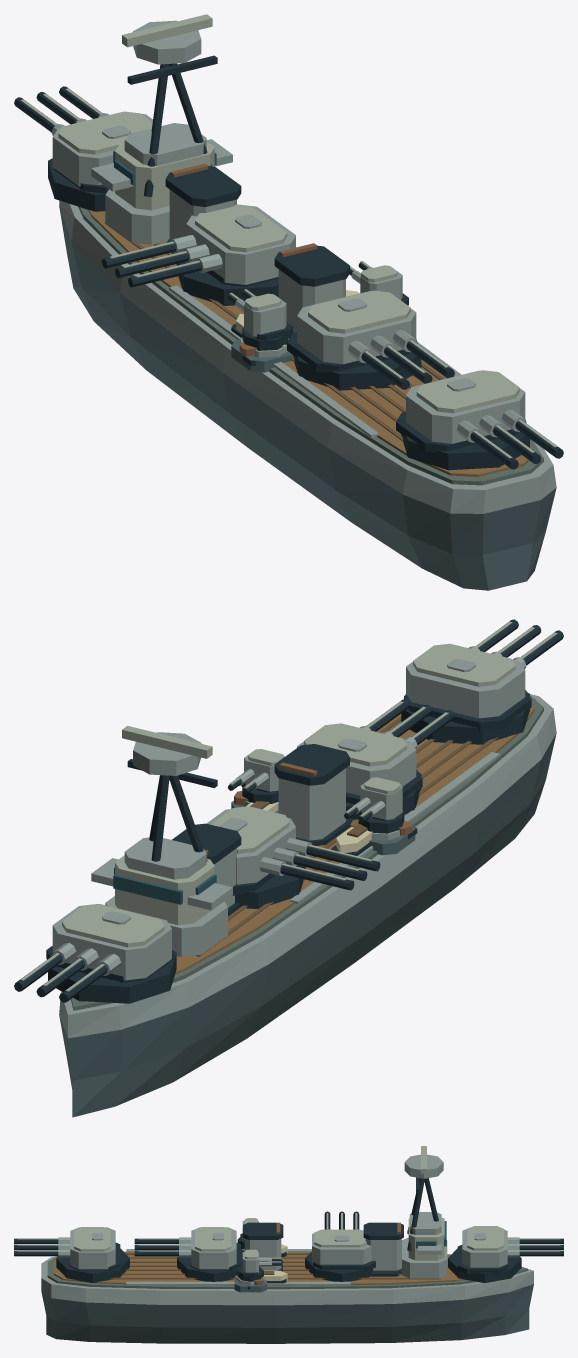
File: historic-marat.glb
3 views of the same model, one above another, from view 1: azimuth 30°, elevation 25°; view 2: azimuth 150°, elevation 25°; view 3: azimuth 270°, elevation 25° (orthographic). The views are drawn at different scales.
Parts seen in each view (by area): view 1: historic-marat-historic-marat-geometry, historic-marat-part_bridge.046-geometry, historic-marat-turret_main_3.018-geometry, historic-marat-turret_main_2.031-geometry, historic-marat-turret_main_1.035-geometry, historic-marat-turret_main_0.036-geometry, historic-marat-historic_funnel_1.023-geometry, historic-marat-historic_funnel_0.047-geometry, historic-marat-turret_aa_aa-port.048-geometry, historic-marat-turret_aa_aa-starboard.046-geometry, historic-marat-part_aa-port.048-geometry; view 2: historic-marat-historic-marat-geometry, historic-marat-part_bridge.046-geometry, historic-marat-turret_main_3.018-geometry, historic-marat-turret_main_0.036-geometry, historic-marat-turret_main_1.035-geometry, historic-marat-turret_main_2.031-geometry, historic-marat-historic_funnel_1.023-geometry, historic-marat-turret_aa_aa-port.048-geometry, historic-marat-historic_funnel_0.047-geometry, historic-marat-turret_aa_aa-starboard.046-geometry, historic-marat-part_aa-port.048-geometry; view 3: historic-marat-historic-marat-geometry, historic-marat-turret_main_0.036-geometry, historic-marat-part_bridge.046-geometry, historic-marat-turret_main_3.018-geometry, historic-marat-turret_main_2.031-geometry, historic-marat-turret_main_1.035-geometry, historic-marat-historic_funnel_0.047-geometry, historic-marat-historic_funnel_1.023-geometry, historic-marat-turret_aa_aa-starboard.046-geometry, historic-marat-part_aa-starboard.046-geometry.
Part boxes in pixels (x1,y1,x2,y2): historic-marat-historic-marat-geometry: [59, 200, 556, 590]; historic-marat-part_bridge.046-geometry: [91, 14, 232, 244]; historic-marat-turret_main_3.018-geometry: [396, 370, 563, 470]; historic-marat-turret_main_2.031-geometry: [287, 290, 454, 390]; historic-marat-turret_main_1.035-geometry: [102, 204, 295, 305]; historic-marat-turret_main_0.036-geometry: [14, 86, 152, 211]; historic-marat-historic_funnel_1.023-geometry: [274, 243, 349, 338]; historic-marat-historic_funnel_0.047-geometry: [165, 163, 241, 253]; historic-marat-turret_aa_aa-port.048-geometry: [228, 289, 292, 350]; historic-marat-turret_aa_aa-starboard.046-geometry: [349, 261, 408, 305]; historic-marat-part_aa-port.048-geometry: [231, 337, 293, 372]; historic-marat-historic-marat-geometry: [59, 694, 556, 1117]; historic-marat-part_bridge.046-geometry: [91, 726, 232, 956]; historic-marat-turret_main_3.018-geometry: [401, 619, 563, 744]; historic-marat-turret_main_0.036-geometry: [14, 904, 176, 1003]; historic-marat-turret_main_1.035-geometry: [207, 806, 380, 908]; historic-marat-turret_main_2.031-geometry: [297, 699, 454, 819]; historic-marat-historic_funnel_1.023-geometry: [274, 744, 355, 845]; historic-marat-turret_aa_aa-port.048-geometry: [344, 777, 404, 833]; historic-marat-historic_funnel_0.047-geometry: [172, 823, 241, 915]; historic-marat-turret_aa_aa-starboard.046-geometry: [227, 749, 284, 803]; historic-marat-part_aa-port.048-geometry: [369, 820, 415, 855]; historic-marat-historic-marat-geometry: [41, 1244, 533, 1343]; historic-marat-turret_main_0.036-geometry: [448, 1226, 563, 1282]; historic-marat-part_bridge.046-geometry: [402, 1146, 447, 1278]; historic-marat-turret_main_3.018-geometry: [14, 1227, 129, 1282]; historic-marat-turret_main_2.031-geometry: [134, 1227, 244, 1281]; historic-marat-turret_main_1.035-geometry: [305, 1211, 375, 1281]; historic-marat-historic_funnel_0.047-geometry: [363, 1222, 403, 1276]; historic-marat-historic_funnel_1.023-geometry: [243, 1222, 283, 1271]; historic-marat-turret_aa_aa-starboard.046-geometry: [237, 1249, 281, 1281]; historic-marat-part_aa-starboard.046-geometry: [234, 1275, 266, 1292].
Size of the model in its own units: 1.29 by 1.84 by 5.35.
